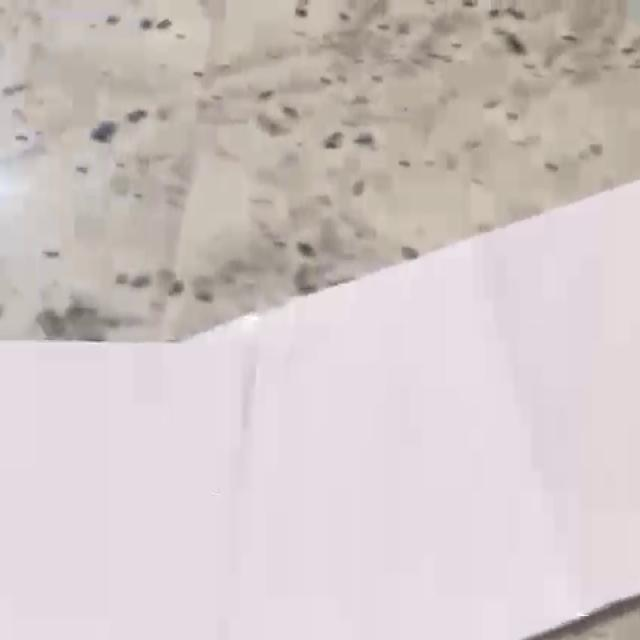road: (0, 180, 640, 640)
